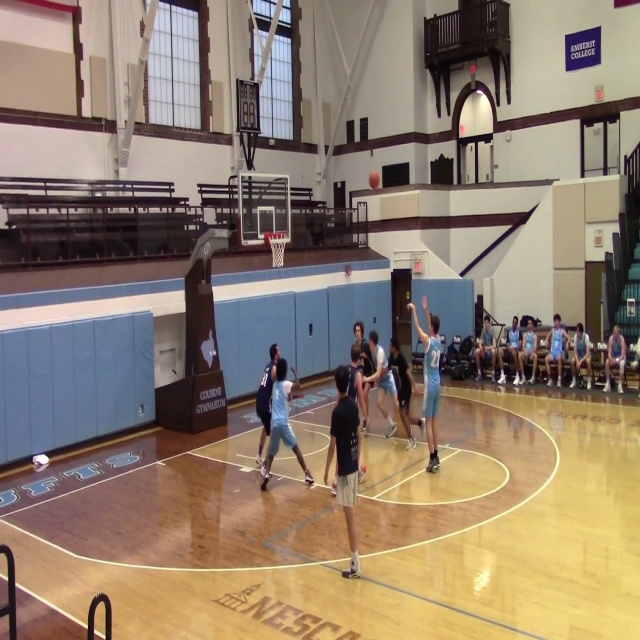Basketball: (32, 454, 49, 471), (368, 171, 379, 190), (32, 454, 49, 465), (360, 465, 367, 473)
